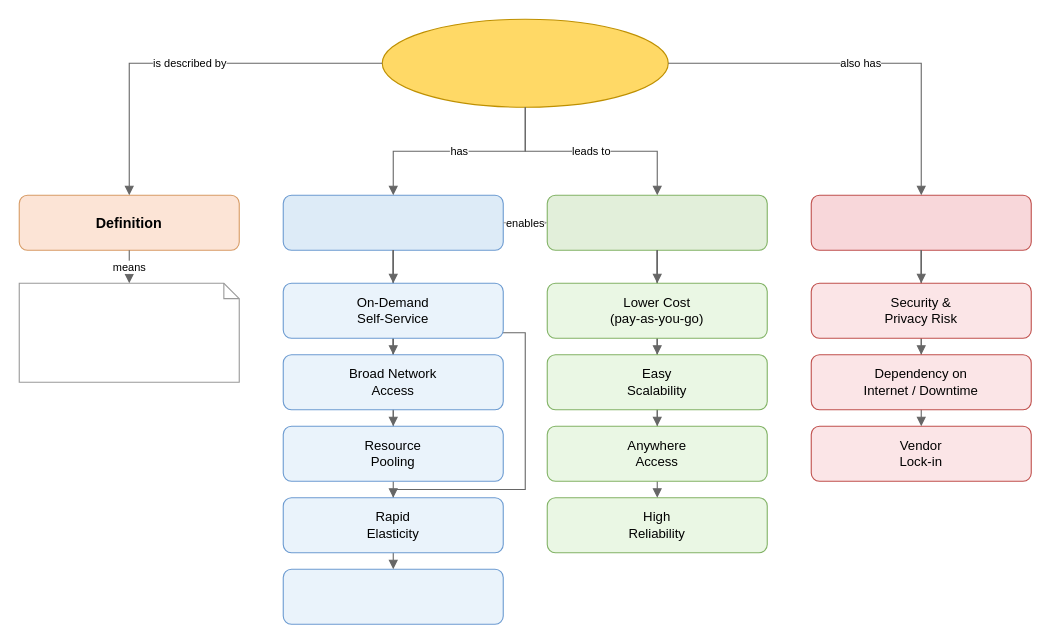
Image size: 1051x644. Some labels were removed from this diagram. The shapes that lost their labels are listed below. From the top down, each one's box as (x1, y1, x2, y2) in pixels, then its label:
(381, 18, 668, 107): CLOUD COMPUTING FUNDAMENTALS
(282, 194, 503, 250): Characteristics
(546, 194, 767, 250): Benefits
(810, 194, 1031, 250): Limitations
(18, 282, 239, 382): On-demand delivery of compute, storage and networking over the Internet
(282, 568, 503, 624): Measured Service
